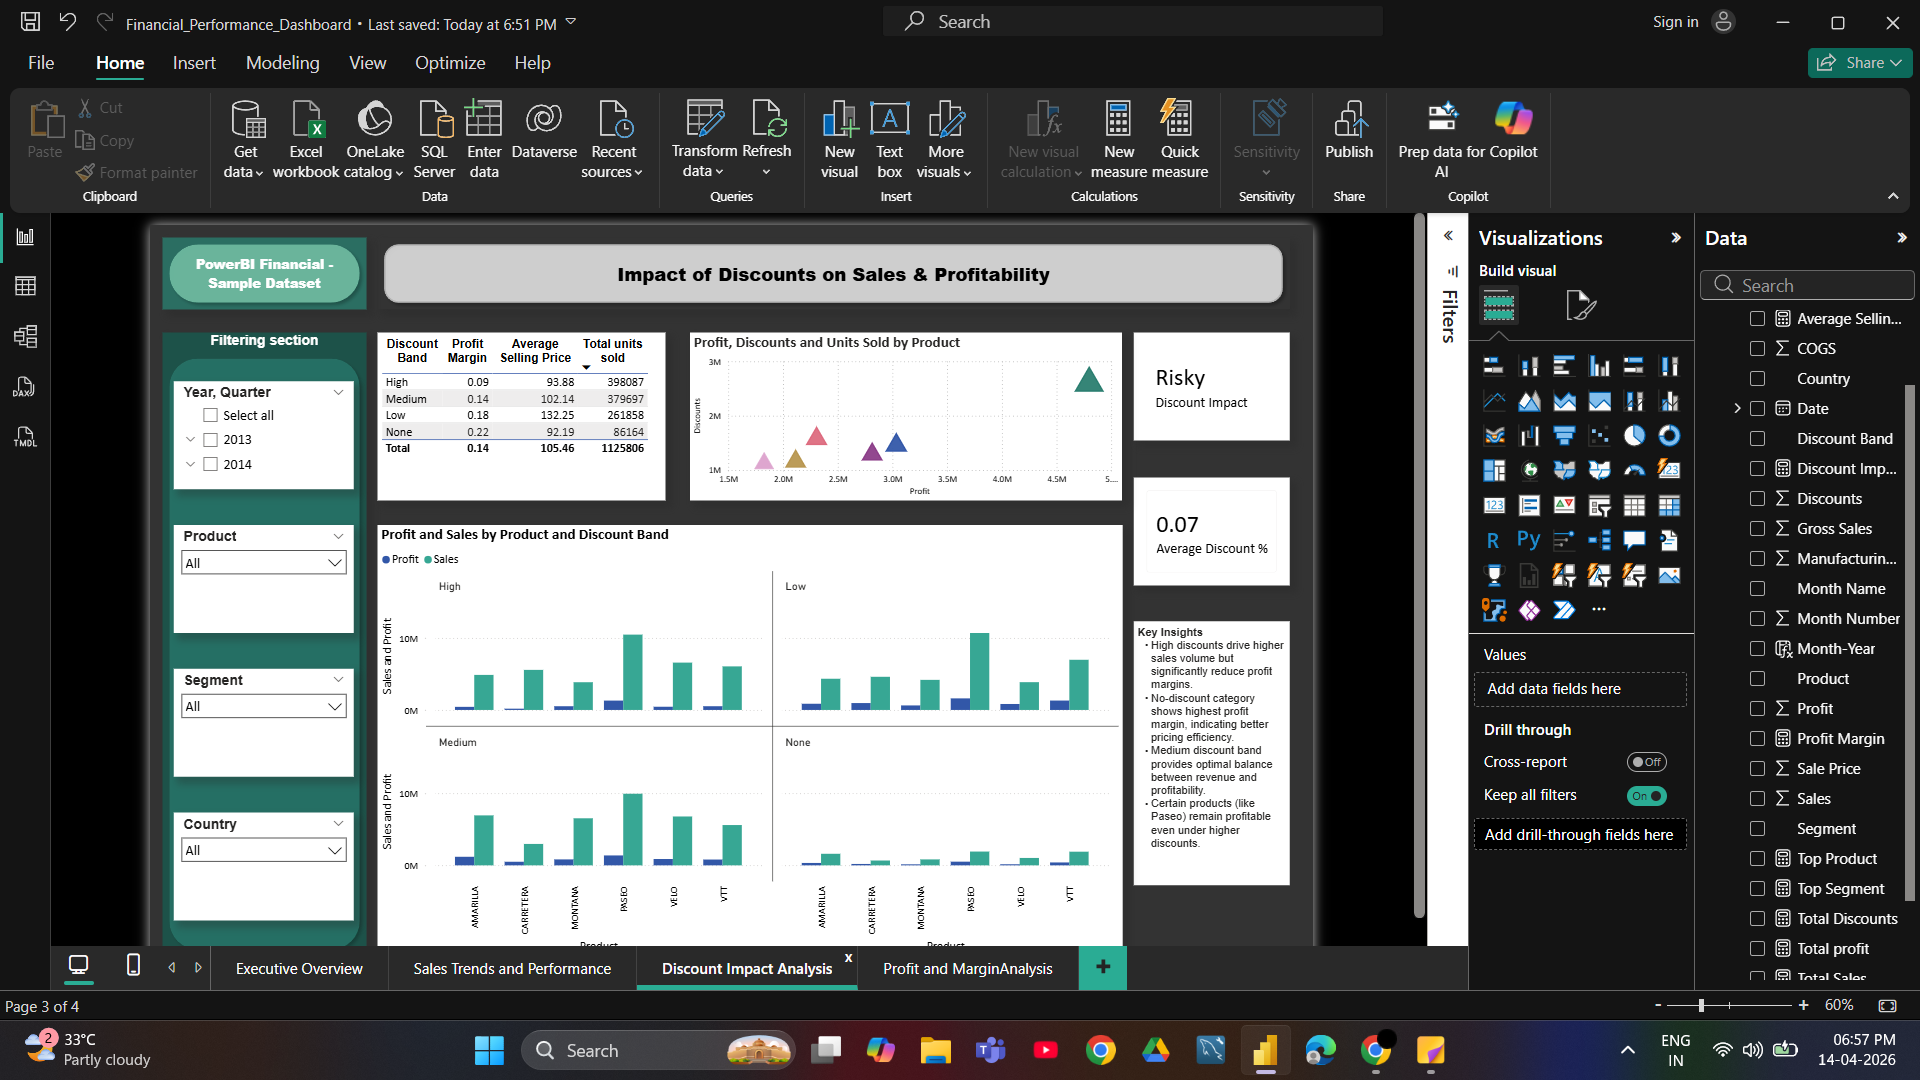

The dashboard page shown, as its layout file describes it:
{"tool":"powerbi","page":{"name":"Discount Impact Analysis","canvas":[1550,1000],"ordinal":2},"visuals":[{"type":"shape","title":"Filtering  section","box":[16,144,272,832],"z":0},{"type":"shape","title":"PowerBI Financial - Sample Dataset","box":[16,16,272,96],"z":1000},{"type":"shape","box":[304,16,1216,96],"z":2000},{"type":"slicer","fields":{"Values":["financials.Date.Variation.Date Hierarchy.Year","financials.Date.Variation.Date Hierarchy.Quarter"]},"box":[32,208,240,144],"z":3000},{"type":"slicer","fields":{"Values":["financials.Product"]},"box":[32,400,240,144],"z":4000},{"type":"slicer","fields":{"Values":["financials.Segment"]},"box":[32,592,240,144],"z":5000},{"type":"slicer","fields":{"Values":["financials.Country"]},"box":[32,784,240,144],"z":6000},{"type":"textbox","box":[1312,528,208,352],"z":7000},{"type":"tableEx","fields":{"Values":["financials.Discount Band","financials.Profit Margin","financials.Average Selling Price","financials.Total units sold"]},"box":[304,144,384,224],"z":8000},{"type":"clusteredColumnChart","fields":{"Y":["Sum(financials.Profit)","financials.Total Sales"],"Category":["financials.Product"],"Rows":["financials.Discount Band"]},"box":[303.3,400,993.3,576.7],"z":9000},{"type":"cardVisual","fields":{"Data":["financials.Discount Impact"]},"box":[1312,144,208,144],"z":10000},{"type":"cardVisual","fields":{"Data":["financials.Avg Discount %"]},"box":[1312,336,208,144],"z":11000},{"type":"scatterChart","fields":{"X":["Sum(financials.Profit)"],"Y":["Sum(financials.Discounts)"],"Size":["Sum(financials.Units Sold)"],"Category":["financials.Product"]},"box":[720,144,576,224],"z":12000}]}

Visuals, with their boxes on the page's 1550x1000 design canvas (x1, y1, x2, y2). These are canvas units, not pixel positions in the 1920x1080 screenshot, which may show the page scaled, cropped or inside an application window:
"Filtering  section" shape: (16, 144, 288, 976)
"PowerBI Financial - Sample Dataset" shape: (16, 16, 288, 112)
shape: (304, 16, 1520, 112)
slicer - financials.Date.Variation.Date Hierarchy.Year x financials.Date.Variation.Date Hierarchy.Quarter: (32, 208, 272, 352)
slicer - financials.Product: (32, 400, 272, 544)
slicer - financials.Segment: (32, 592, 272, 736)
slicer - financials.Country: (32, 784, 272, 928)
textbox: (1312, 528, 1520, 880)
tableEx - financials.Discount Band x financials.Profit Margin: (304, 144, 688, 368)
clusteredColumnChart - Sum(financials.Profit) x financials.Total Sales: (303, 400, 1297, 977)
cardVisual - financials.Discount Impact: (1312, 144, 1520, 288)
cardVisual - financials.Avg Discount %: (1312, 336, 1520, 480)
scatterChart - Sum(financials.Profit) x Sum(financials.Discounts): (720, 144, 1296, 368)
